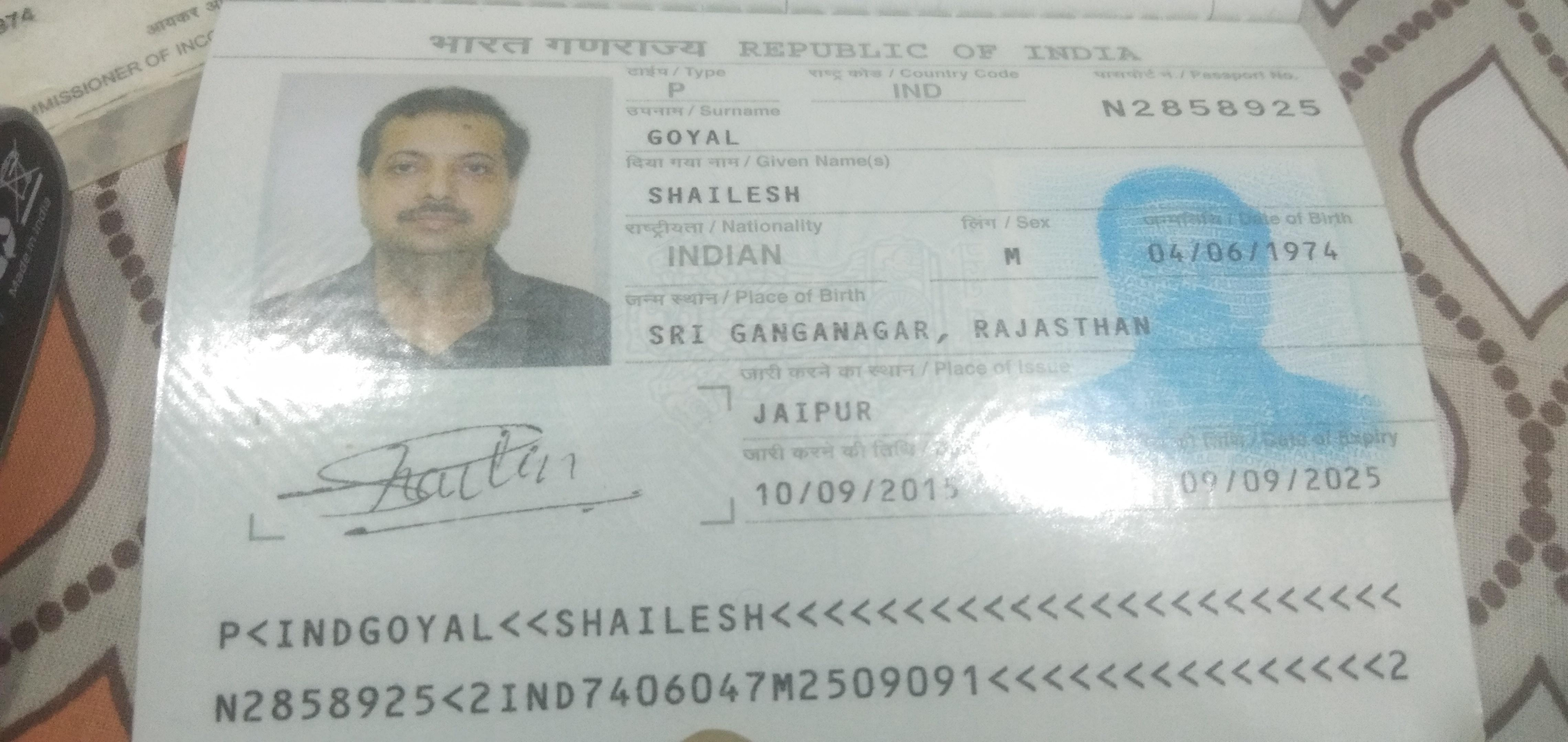DOB: (1145, 236, 1358, 272)
Surname: (645, 127, 741, 146)
country_code: (889, 79, 947, 111)
date_of_expiry: (1170, 457, 1395, 508)
date_of_issue: (745, 469, 971, 517)
details: (187, 581, 1432, 723)
name: (641, 173, 812, 215)
nationality: (656, 238, 797, 275)
passport_no: (1092, 93, 1329, 125)
photo: (282, 74, 600, 378)
place_of_birth: (640, 309, 1164, 345)
place_of_issue: (744, 388, 890, 443)
sex: (987, 235, 1040, 279)
sign: (284, 425, 646, 537)
type: (658, 79, 692, 106)
